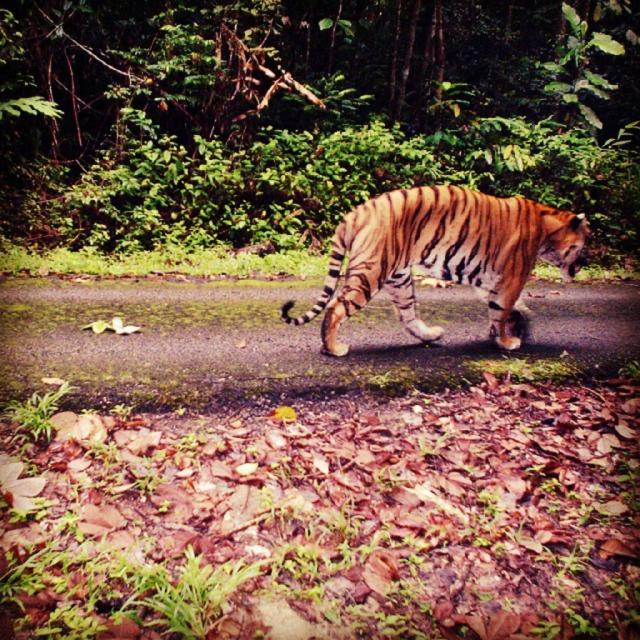Tiger: (280, 186, 588, 355)
